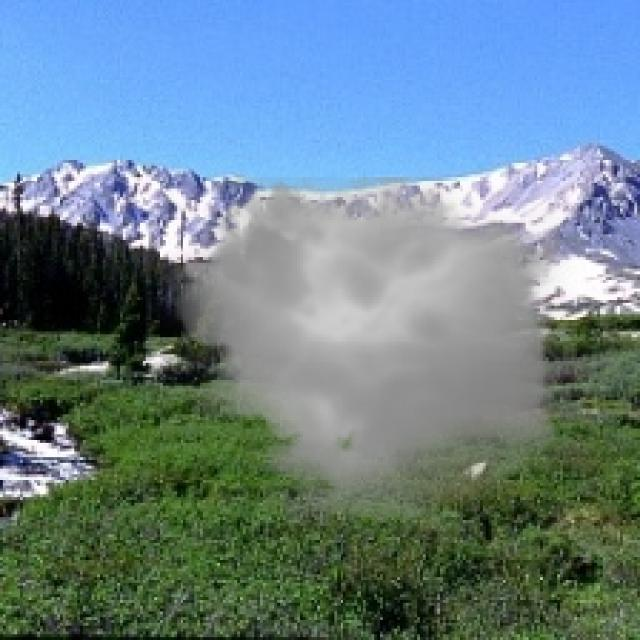Smoke: (157, 159, 577, 532)
